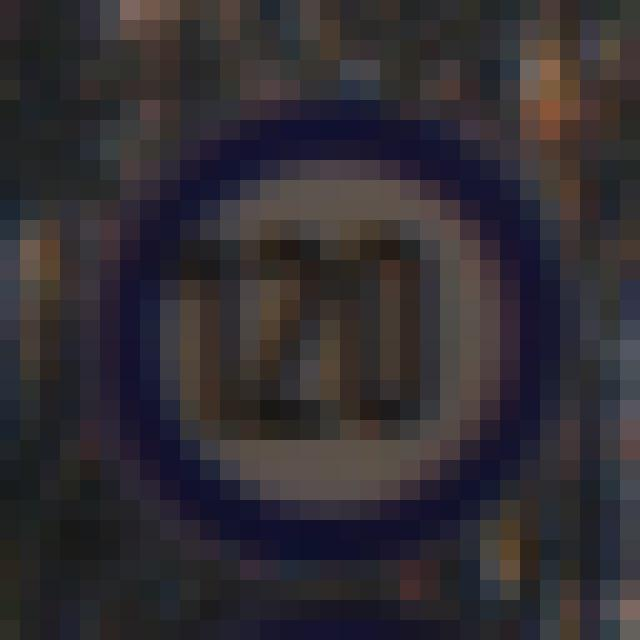SPEED LIMIT 120: (86, 104, 564, 546)
